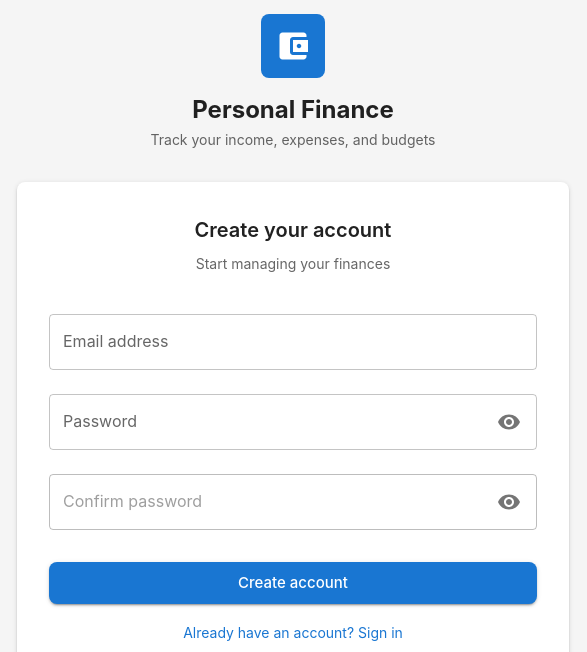
Test case: User Registration › Error Handling › should show error for server error
In the field named "Email address": (293, 342) [49,314,537,370], type "servererror@example.com"
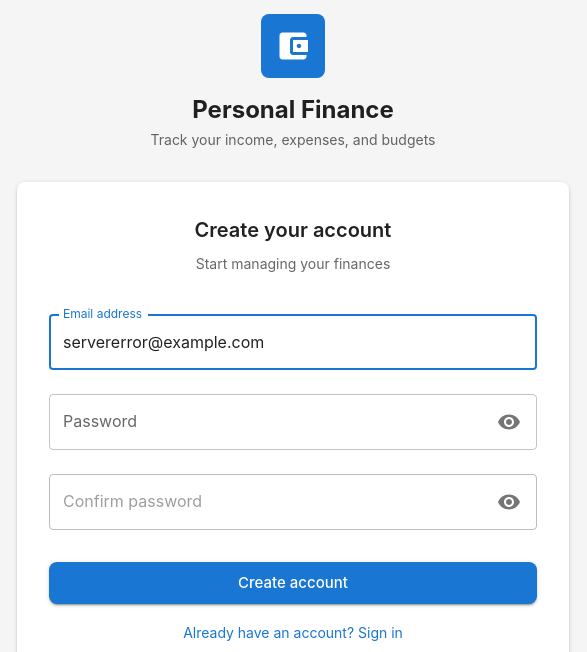
In the password field named "Password": (267, 422) [49,394,484,450], type "SecurePass123!"
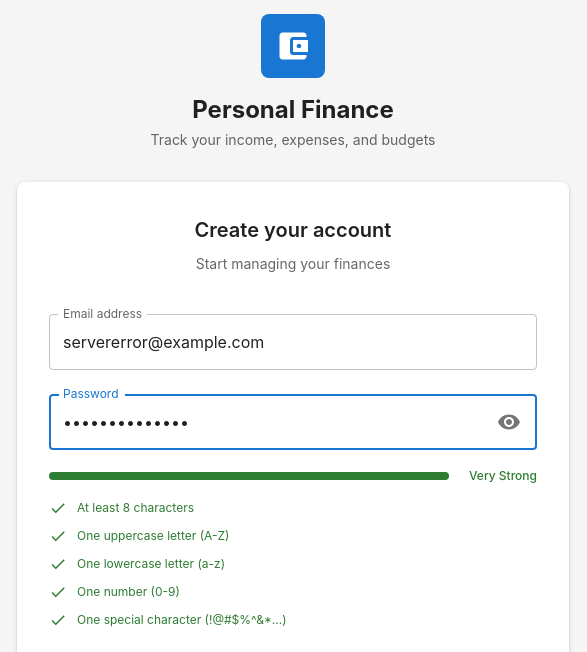
Scroll
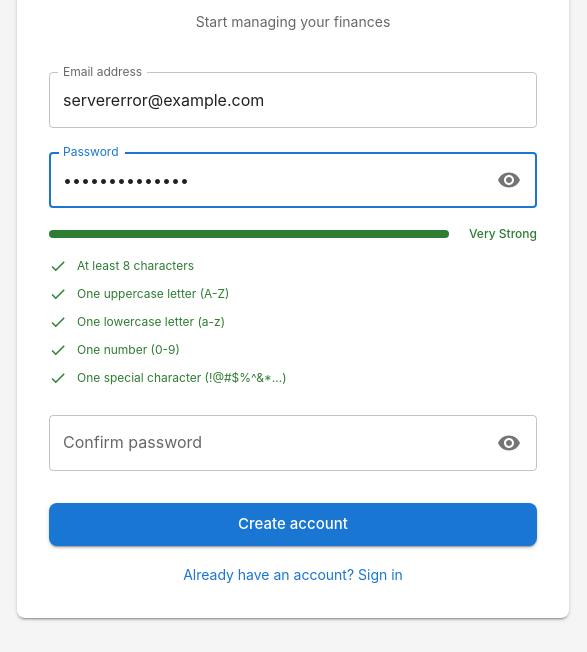
In the password field named "Confirm password": (267, 444) [49,416,484,472], type "SecurePass123!"
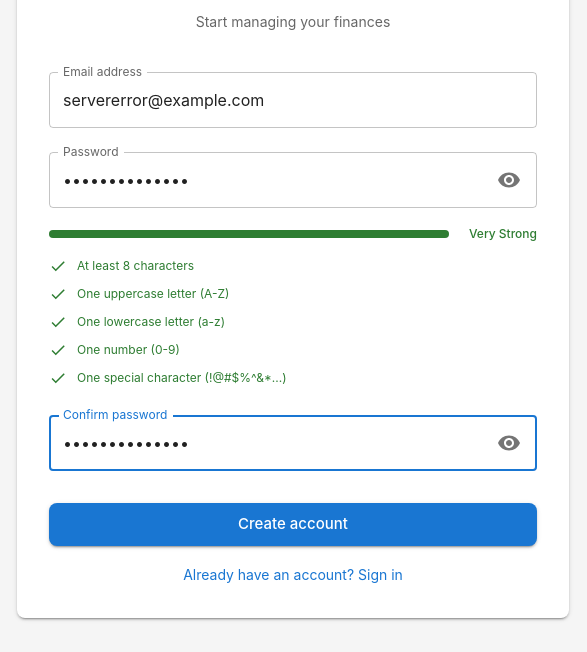
Click the button "Create account": (293, 525) [49,504,537,546]
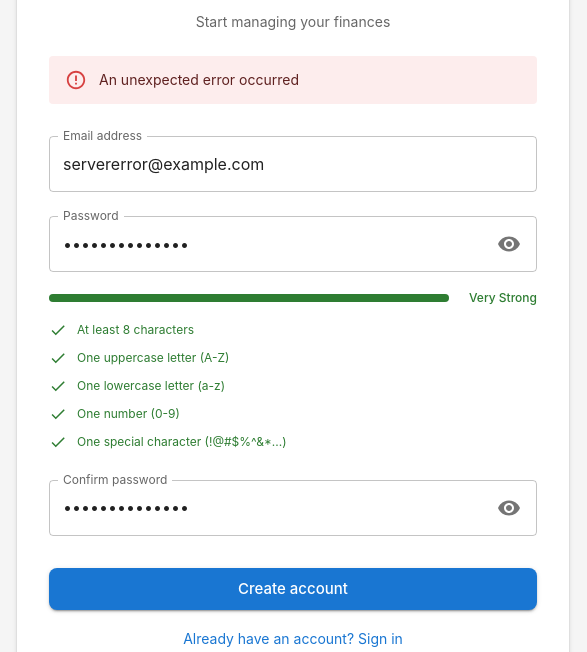
Result: the message "An unexpected error occurred" is shown at [49,56,537,104]
